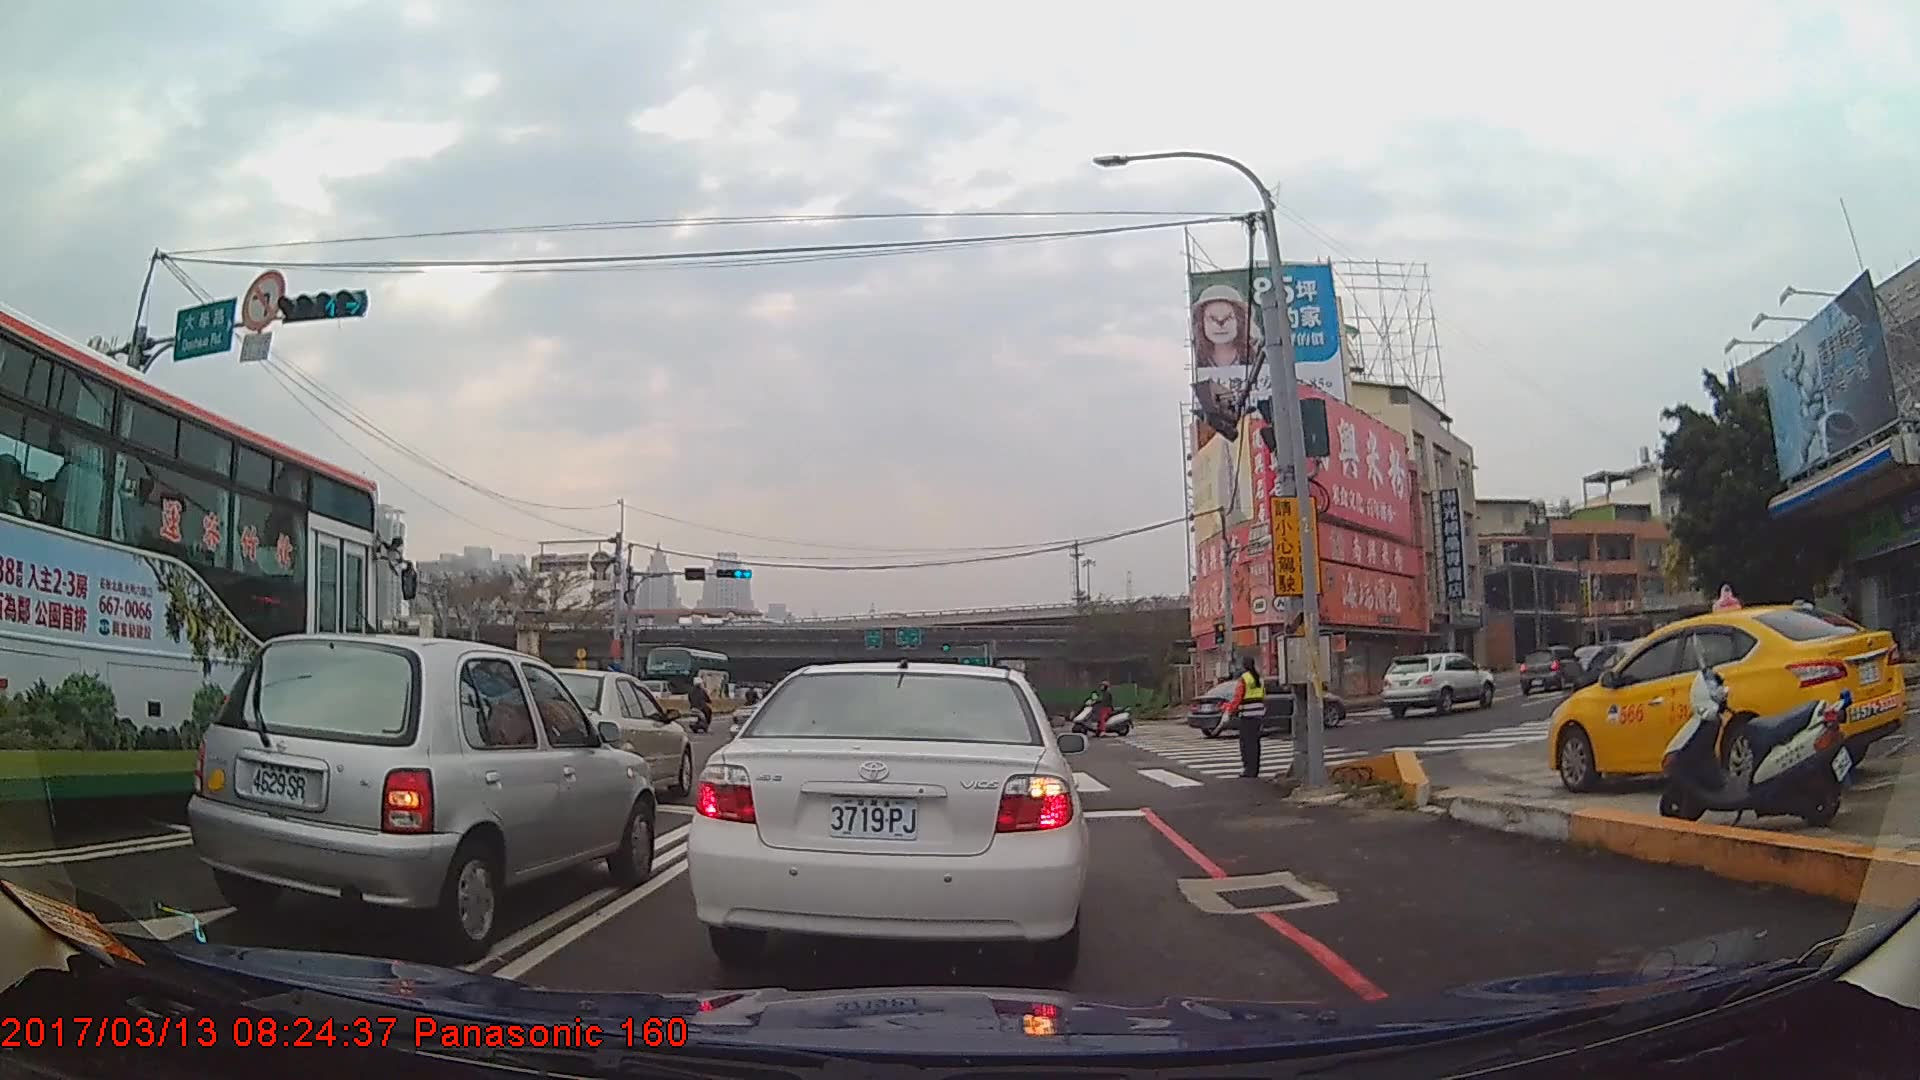pedestrian: (1217, 657, 1270, 777)
rider: (1073, 682, 1135, 740), (687, 677, 714, 738)
vehicle: (0, 297, 379, 841), (184, 633, 658, 955), (684, 657, 1086, 975), (1547, 603, 1904, 793), (485, 666, 694, 810), (1185, 675, 1342, 741), (1383, 651, 1493, 718), (645, 644, 729, 706), (1516, 647, 1583, 693)
